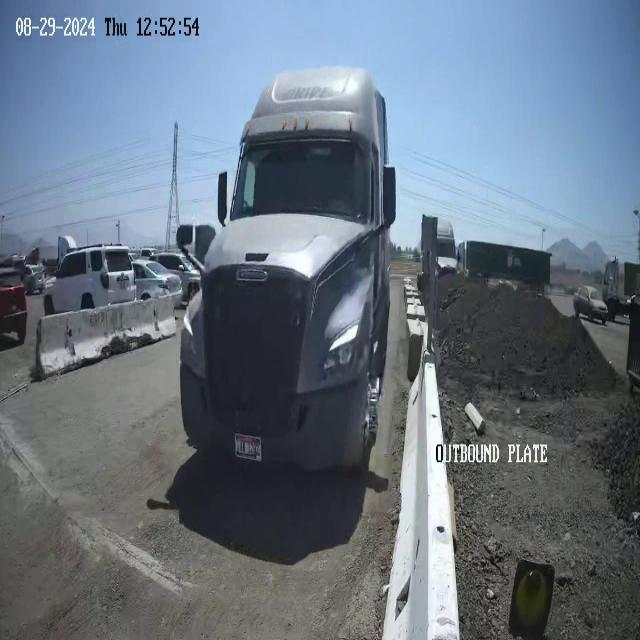TRUCK_OUT: (178, 64, 396, 476)
